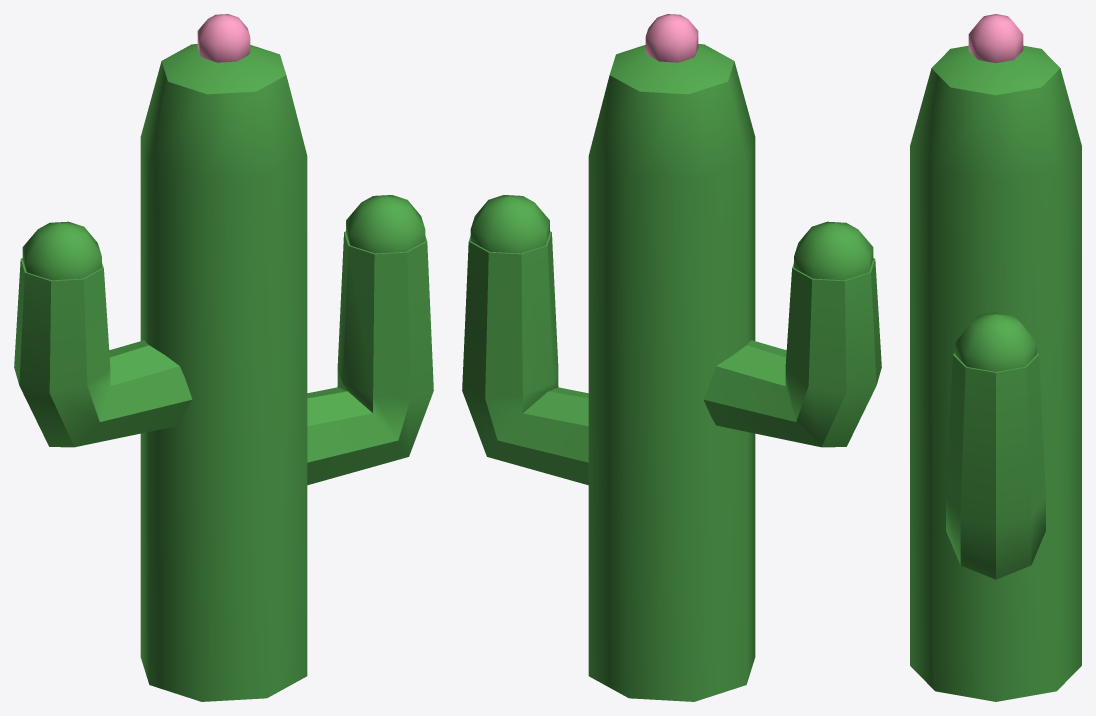
The model's file is Cactus.fbx.
3 views of the same model, side by side, from view 1: azimuth 30°, elevation 25°; view 2: azimuth 150°, elevation 25°; view 3: azimuth 270°, elevation 25° (orthographic).
Parts seen in each view (by area): view 1: Cactus; view 2: Cactus; view 3: Cactus.
Part boxes in pixels (<box>): Cactus: <box>14,14,433,701</box>; Cactus: <box>462,14,881,701</box>; Cactus: <box>910,14,1081,701</box>.
Size of the model in its own units: 3.29 by 5 by 1.2.
Materials: 1 (1 with a texture image).
